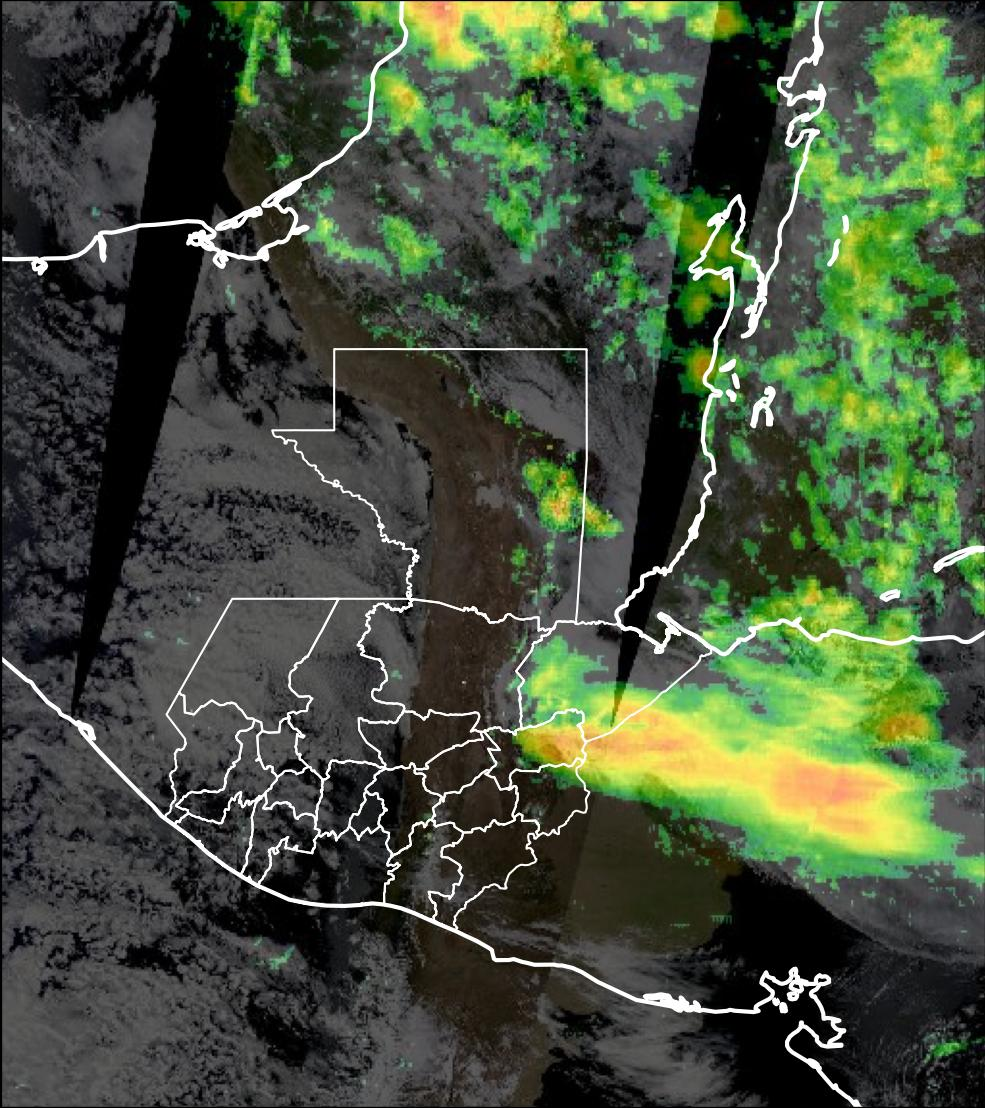precipitacion: (533, 697, 916, 863)
